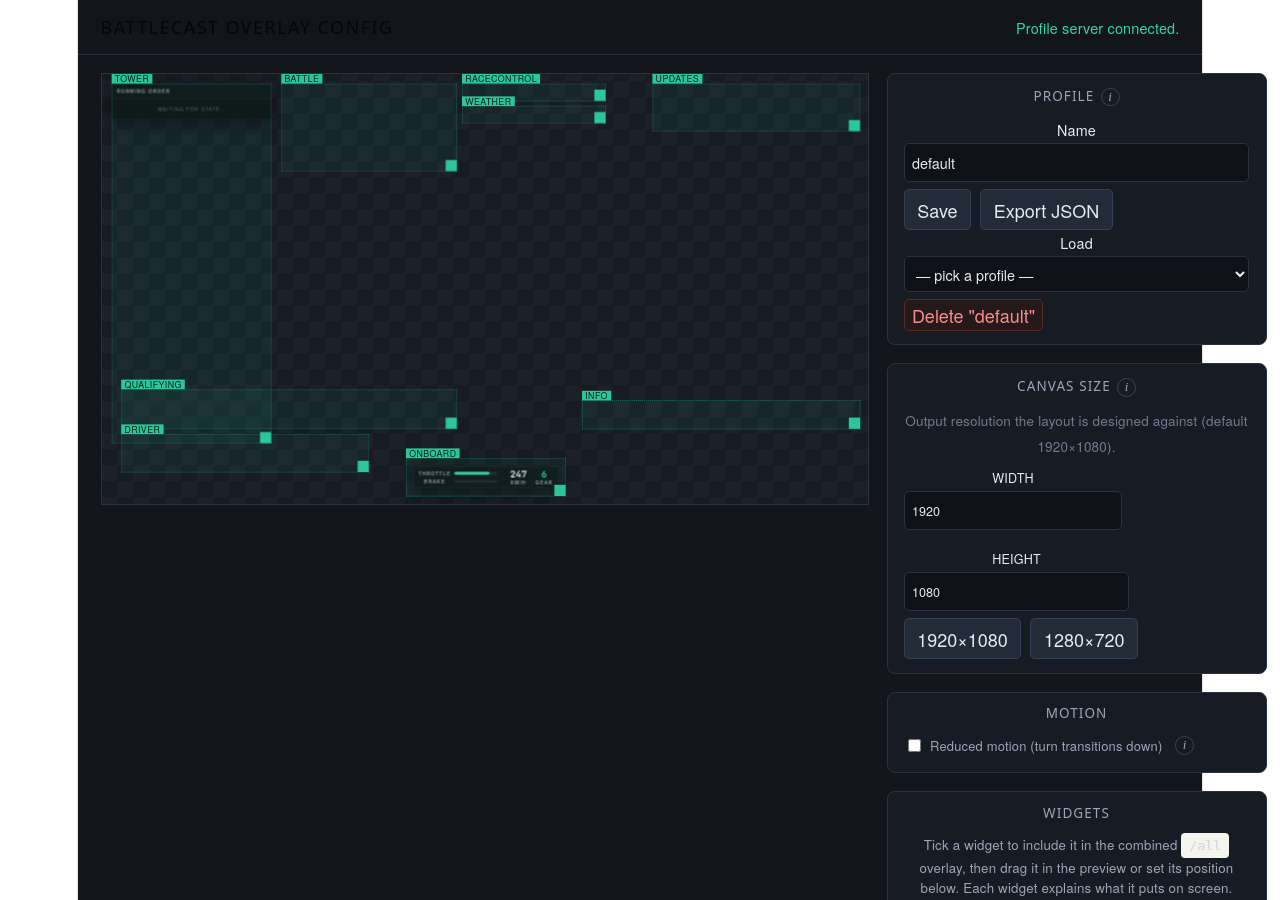
Test: deletes the current profile and refreshes the list
Click the button with test id "delete-profile" at (974, 315), box [904, 299, 1043, 331]
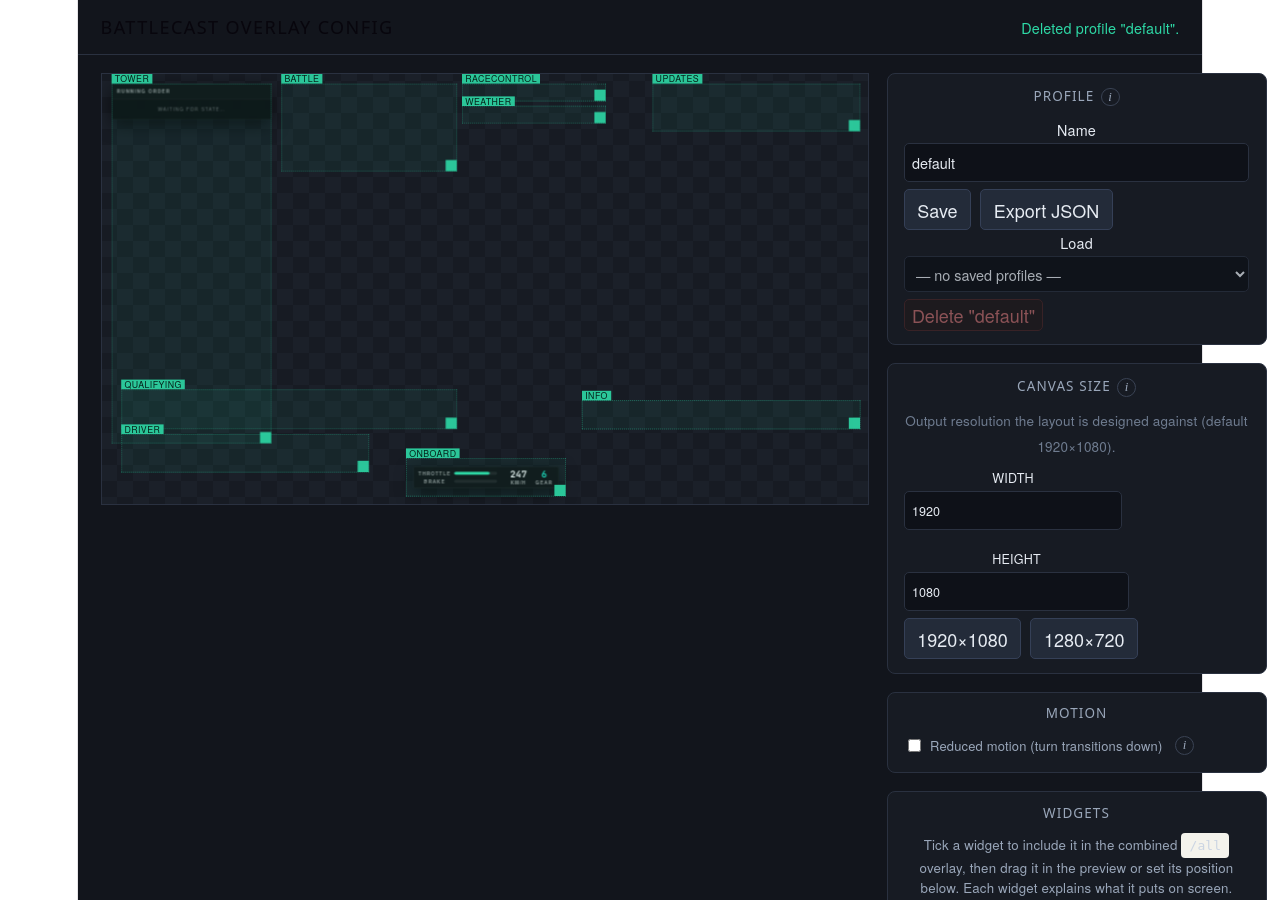
Result: the button with test id "delete-profile" is disabled at [904, 299, 1043, 331]
